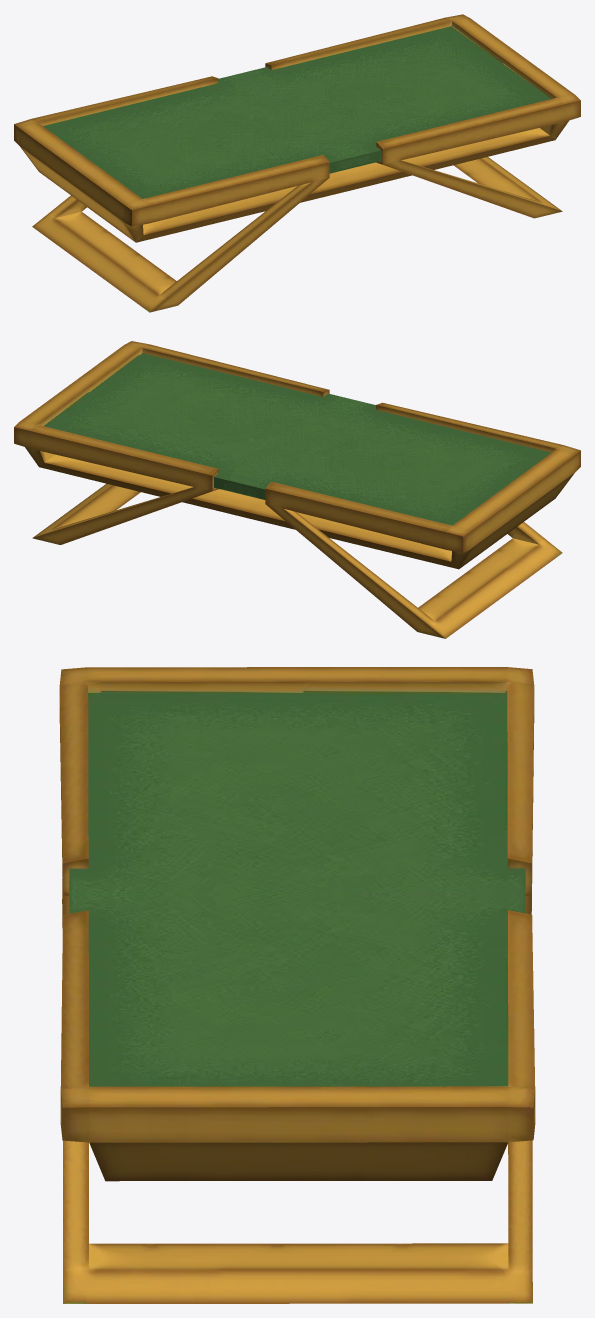
File: table-futuristic.glb
The picture shows the model from 3 angles, top to bottom: view 1: azimuth 30°, elevation 25°; view 2: azimuth 150°, elevation 25°; view 3: azimuth 270°, elevation 25°; orthographic projection. The views are drawn at different scales.
Visible parts, largest first — view 1: Table_Futuristic; view 2: Table_Futuristic; view 3: Table_Futuristic.
Boxes of the visible parts, x1=… form: Table_Futuristic: x1=14, y1=14, x2=580, y2=312; Table_Futuristic: x1=14, y1=341, x2=580, y2=638; Table_Futuristic: x1=59, y1=667, x2=535, y2=1303.
Size of the model in its own units: 2.51 by 0.5792 by 1.15.
Materials: 1 (1 with a texture image).
